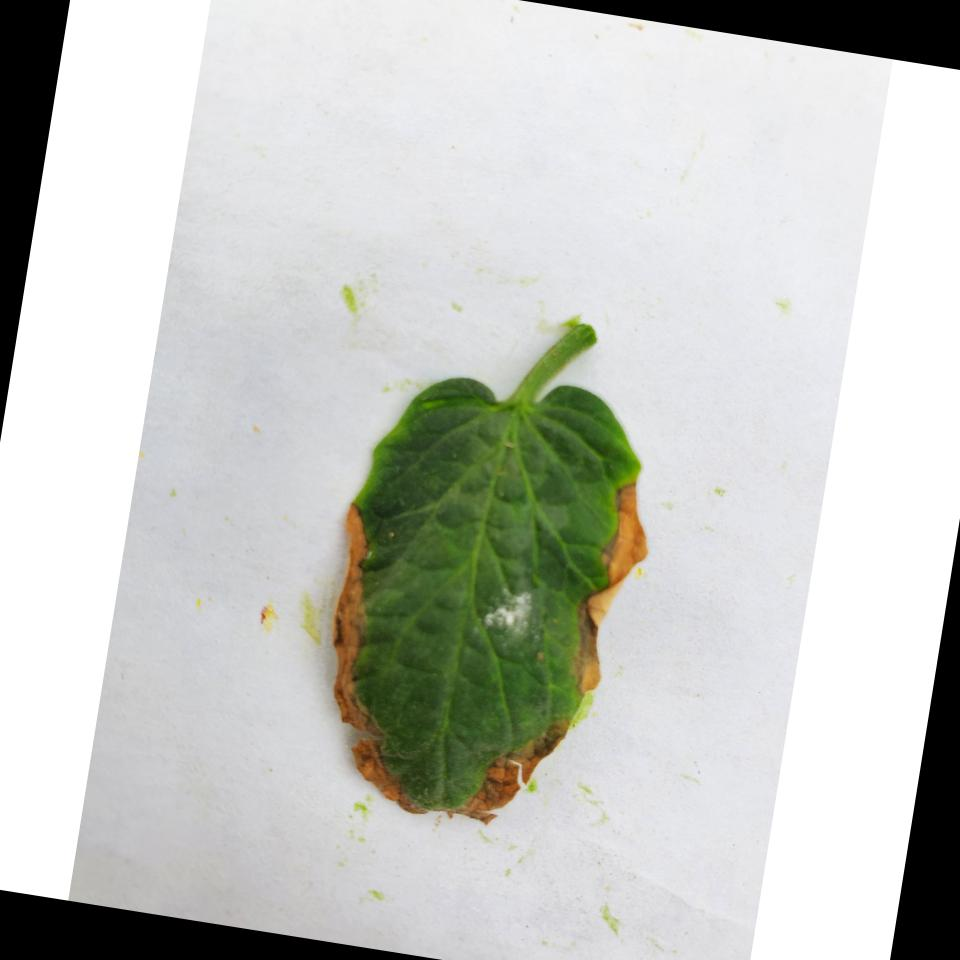tomato_bacterial_blight: (317, 372, 658, 844)
